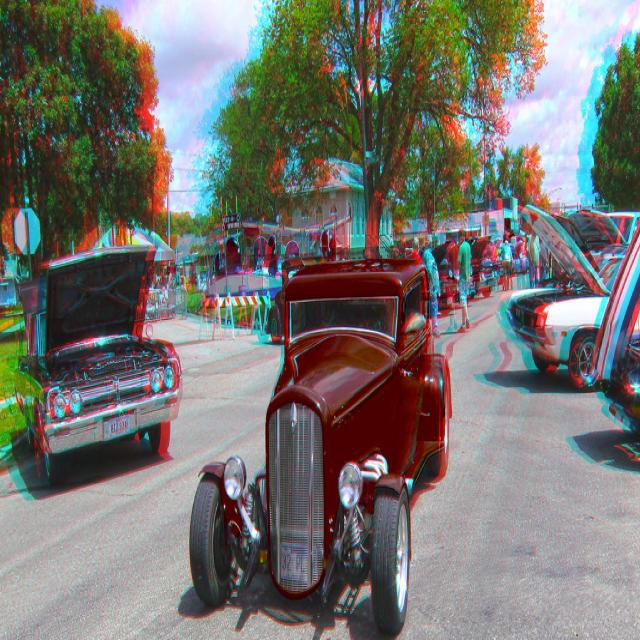car: (187, 255, 454, 638), (10, 238, 182, 474)
